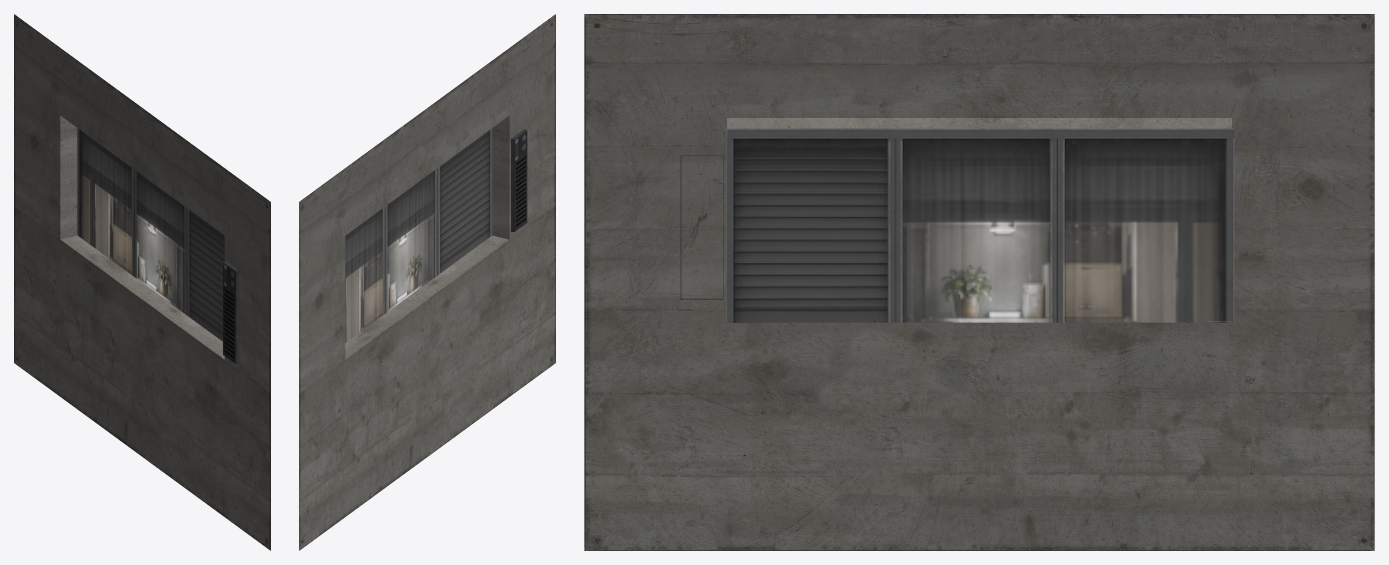
File: CP_Windows_B_4x3m_08.fbx
The picture shows the model from 3 angles, left to right: view 1: azimuth 30°, elevation 25°; view 2: azimuth 150°, elevation 25°; view 3: azimuth 270°, elevation 25°; orthographic projection. The views are drawn at different scales.
Visible parts, largest first — view 1: CP_Windows_B_4x3m_08; view 2: CP_Windows_B_4x3m_08; view 3: CP_Windows_B_4x3m_08.
Part boxes in pixels (x1,y1,x2,y2): CP_Windows_B_4x3m_08: [14, 14, 270, 550]; CP_Windows_B_4x3m_08: [299, 14, 555, 550]; CP_Windows_B_4x3m_08: [584, 14, 1374, 550].
Size of the model in its own units: 18.54 by 300 by 400.
